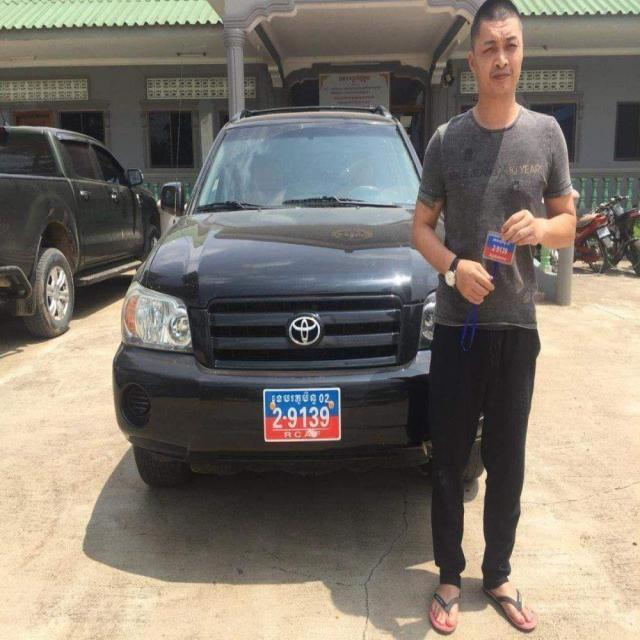RCAF: (272, 391, 316, 405)
